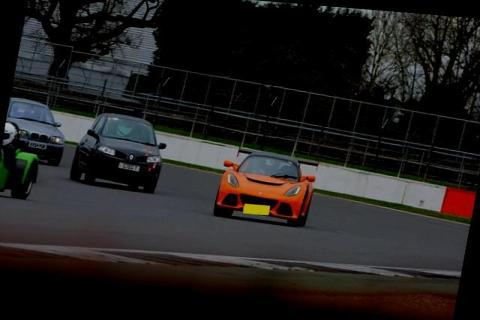LicensePlate: (241, 203, 269, 215), (117, 162, 137, 171), (27, 140, 44, 148)
